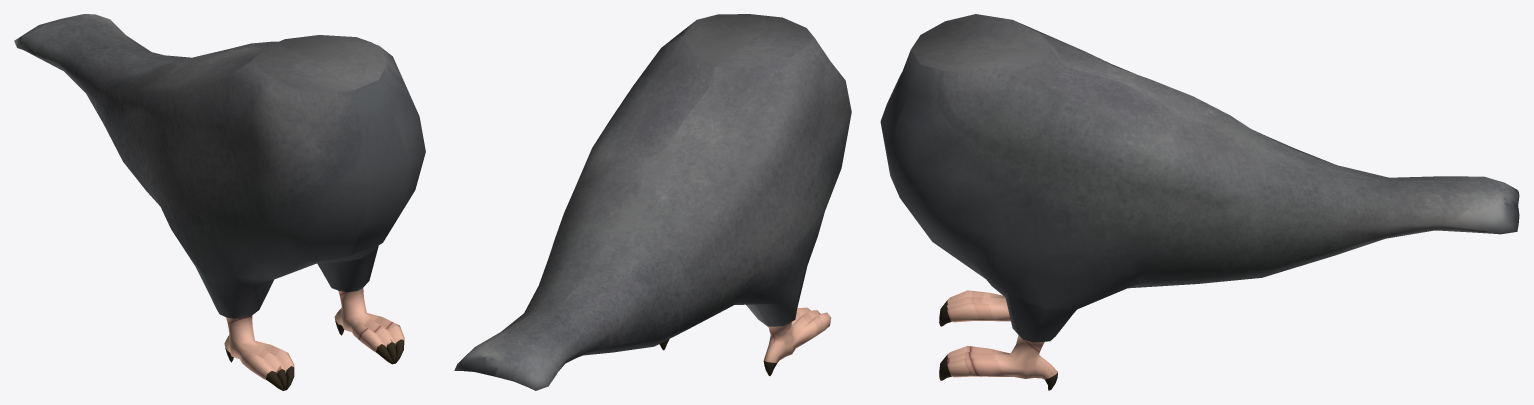
Rendered from missing element bird.fbx.
3 views of the same model, side by side, from view 1: azimuth 30°, elevation 25°; view 2: azimuth 150°, elevation 25°; view 3: azimuth 270°, elevation 25° (orthographic). The views are drawn at different scales.
Parts seen in each view (by area): view 1: pigeon body without head COPY; view 2: pigeon body without head COPY; view 3: pigeon body without head COPY.
Boxes of the visible parts, box(x1,y1,x2,y2) form: pigeon body without head COPY: box(14, 14, 425, 390); pigeon body without head COPY: box(454, 14, 851, 390); pigeon body without head COPY: box(880, 14, 1519, 390).
Bounding box in the file's own units: 45.21 × 126 × 69.94.
